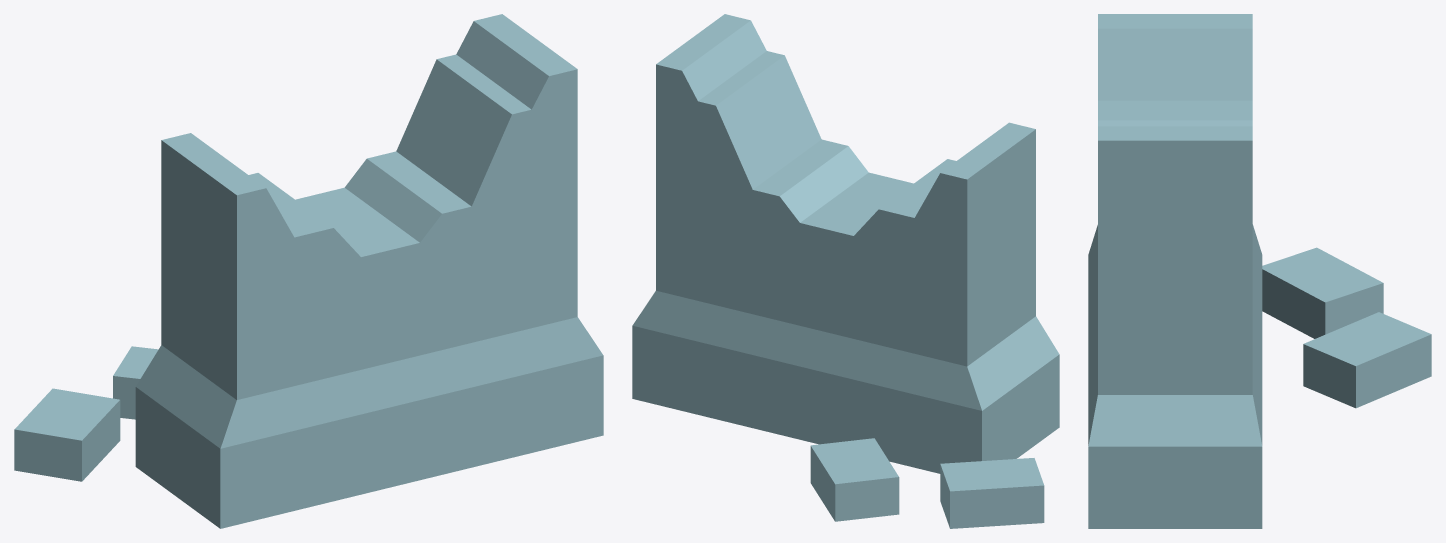
File: grave2.glb
3 views of the same model, side by side, from view 1: azimuth 30°, elevation 25°; view 2: azimuth 150°, elevation 25°; view 3: azimuth 270°, elevation 25° (orthographic). The views are drawn at different scales.
Parts seen in each view (by area): view 1: mergedBlocks(Clone); view 2: mergedBlocks(Clone); view 3: mergedBlocks(Clone).
Boxes of the visible parts, x1,y1,x2,y2 form: mergedBlocks(Clone): (14,14,603,528); mergedBlocks(Clone): (632,14,1059,528); mergedBlocks(Clone): (1088,14,1431,528).
Bounding box in the file's own units: 0.4864 × 0.3581 × 0.2949.
